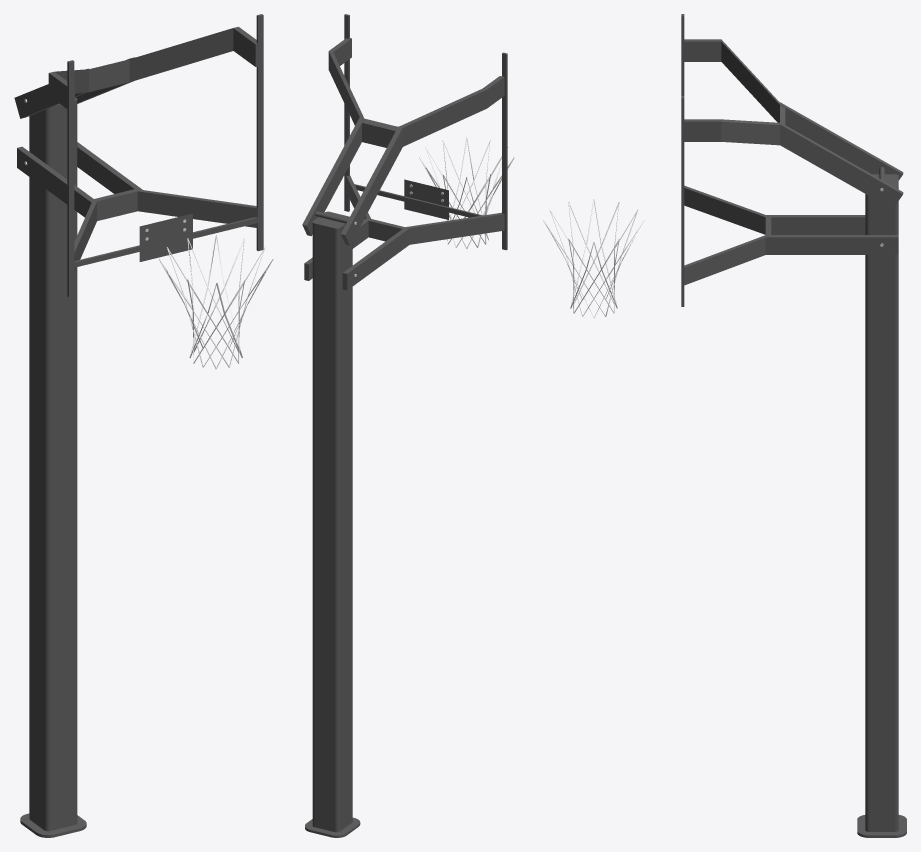
3 renders of one model, left to right at view 1: azimuth 30°, elevation 25°; view 2: azimuth 150°, elevation 25°; view 3: azimuth 270°, elevation 25°, orthographic. The views are drawn at different scales.
Parts seen in each view (by area): view 1: ID18, group_1, group_2, ID207, net_1, ID199, ID48, ID28; view 2: ID18, group_1, group_2, ID207, net_1, ID28; view 3: ID18, group_1, group_2, ID215, ID56, net_1.
Part boxes in pixels (<box>): ID18: <box>29,97,77,831</box>; group_1: <box>14,14,263,297</box>; group_2: <box>17,142,257,252</box>; ID207: <box>74,213,257,267</box>; net_1: <box>166,235,265,367</box>; ID199: <box>89,59,129,91</box>; ID48: <box>97,191,137,220</box>; ID28: <box>20,813,86,837</box>; ID18: <box>312,211,352,832</box>; group_1: <box>302,14,507,250</box>; group_2: <box>304,175,504,290</box>; ID207: <box>354,179,482,219</box>; net_1: <box>420,140,512,247</box>; ID28: <box>305,817,360,837</box>; ID18: <box>865,174,898,831</box>; group_1: <box>681,14,903,306</box>; group_2: <box>684,185,898,285</box>; ID215: <box>780,124,902,209</box>; ID56: <box>684,188,765,234</box>; net_1: <box>543,199,644,318</box>.
Size of the model in its own units: 0.9104 by 3.88 by 1.66.
Materials: 44 (8 with a texture image).
